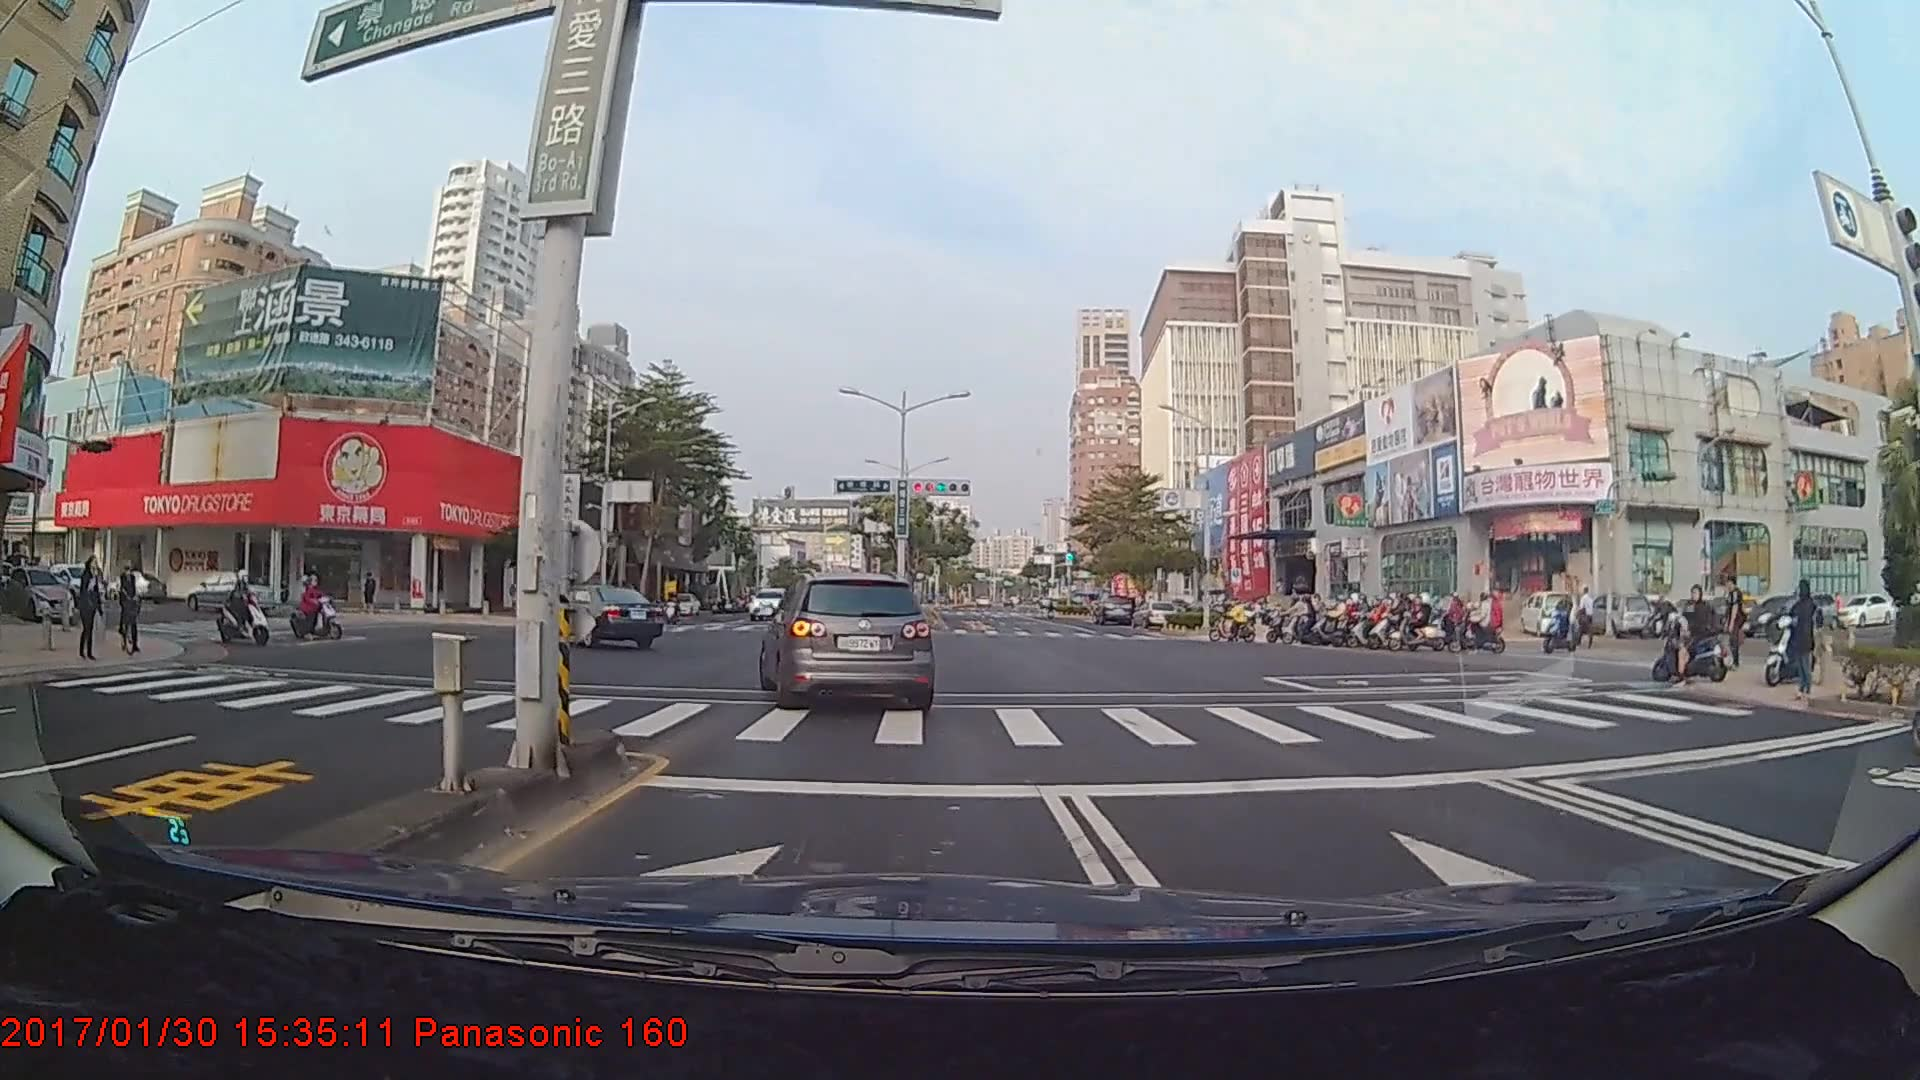pedestrian: (1789, 573, 1828, 704), (75, 557, 105, 665), (1722, 574, 1751, 673)
rider: (1654, 584, 1742, 686), (1759, 582, 1827, 689), (213, 567, 283, 651), (1449, 589, 1510, 660), (287, 577, 350, 642), (110, 560, 147, 661), (1539, 595, 1589, 652), (1407, 593, 1454, 651), (1264, 593, 1319, 644), (1376, 593, 1425, 645), (1209, 599, 1265, 642), (1335, 598, 1381, 648), (1360, 600, 1403, 646)
vehicle: (756, 570, 937, 707), (541, 585, 662, 650), (183, 571, 271, 613), (1091, 592, 1135, 627)
